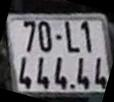-: (56, 35, 61, 39)
.: (70, 85, 75, 89)
0: (38, 21, 52, 52)
1: (81, 21, 92, 52)
4: (36, 58, 50, 89), (77, 58, 90, 90), (19, 57, 31, 89), (55, 58, 67, 89), (95, 58, 106, 89)
7: (24, 21, 36, 52)
L: (66, 21, 80, 52)
